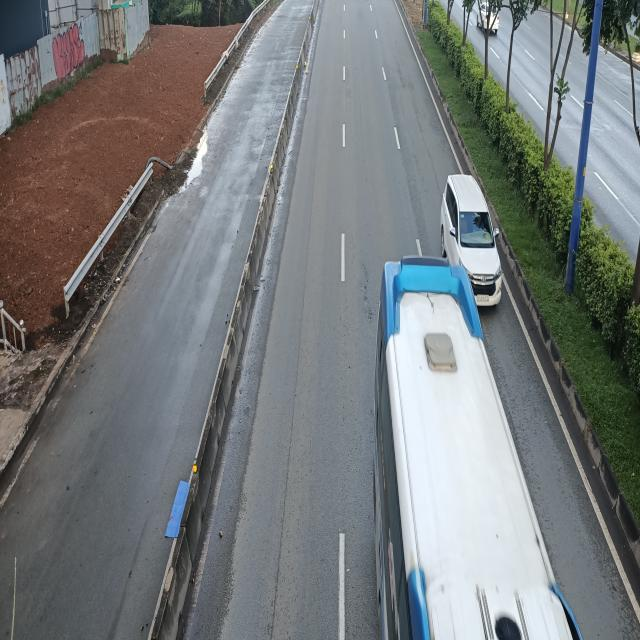car: (439, 171, 500, 306)
coach: (372, 261, 582, 640)
